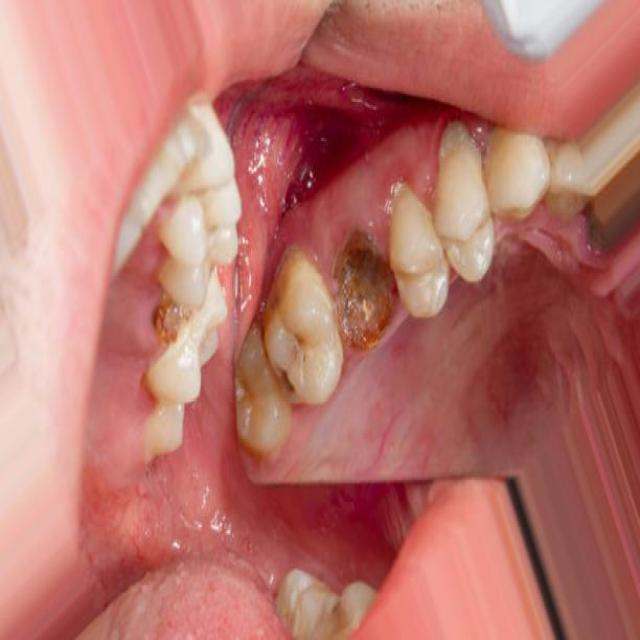caries: (327, 239, 406, 356), (142, 280, 201, 358)
